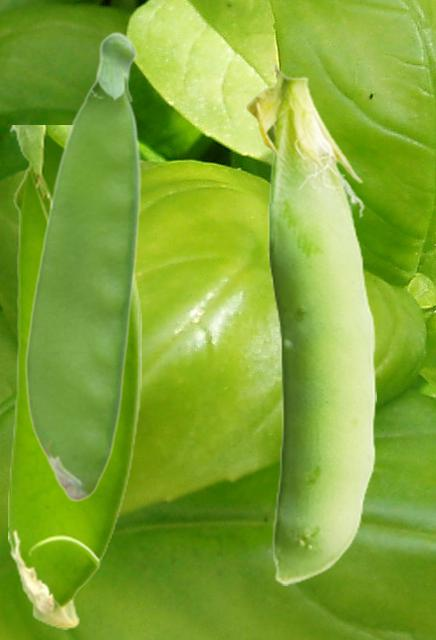pea: (245, 62, 375, 584), (8, 125, 140, 628), (24, 30, 141, 501)
